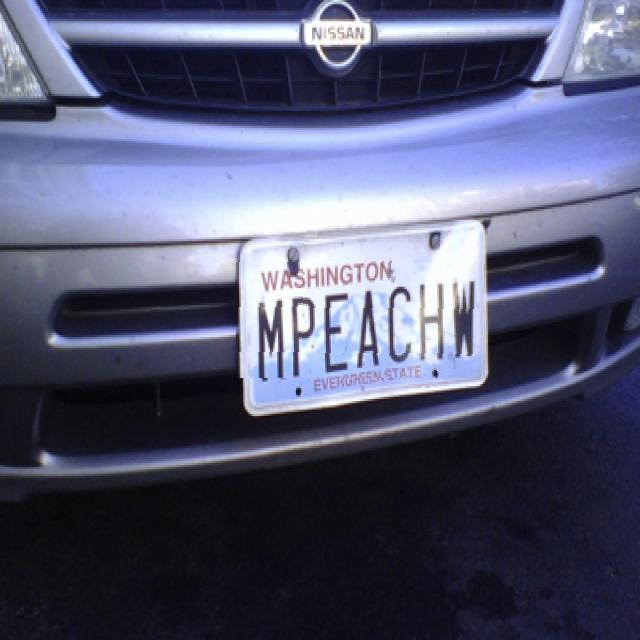licence: (236, 239, 486, 378)
